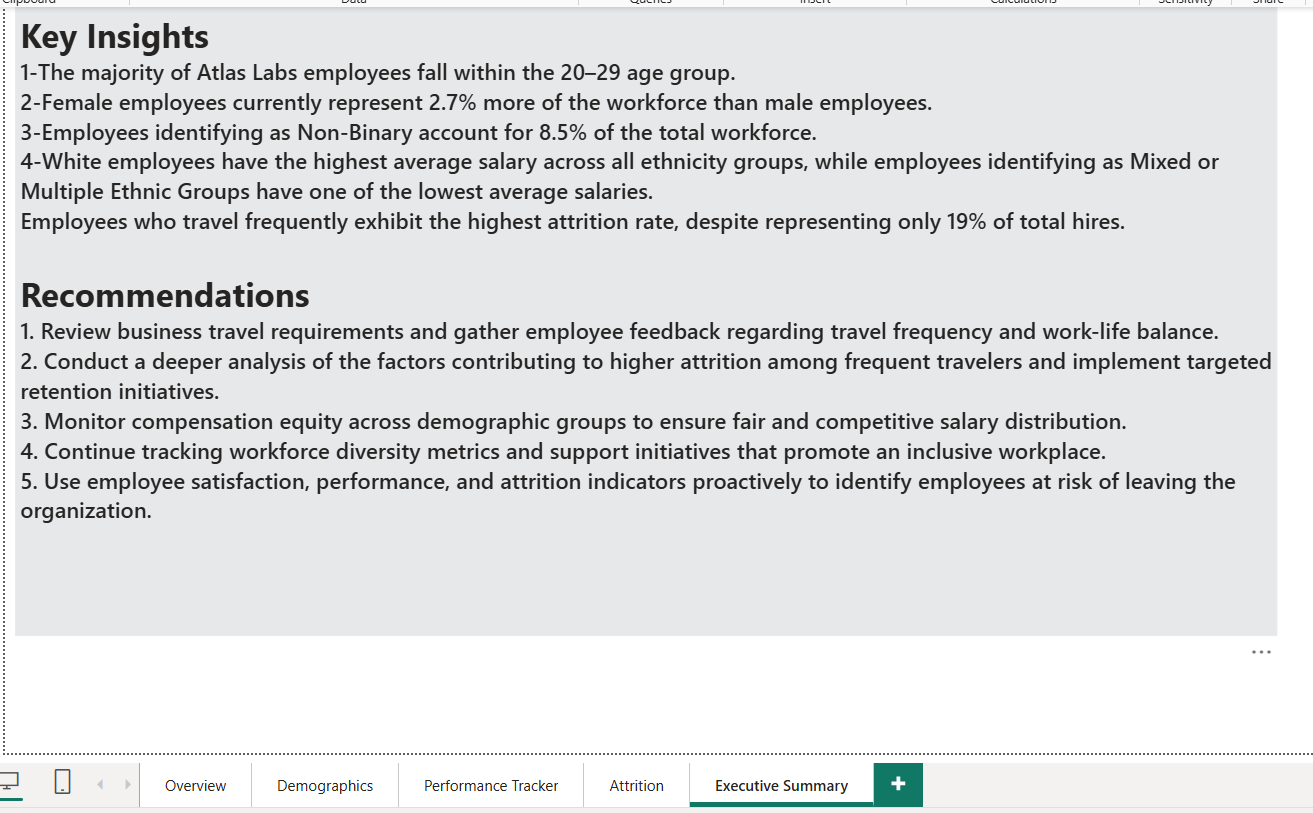

What the dashboard file says about the page in this screenshot:
{"tool":"powerbi","page":{"name":"Executive Summary","canvas":[1280,720],"ordinal":4},"visuals":[{"type":"textbox","box":[9.7,0,1218.5,606.8],"z":0}]}

Visuals, with their boxes on the page's 1280x720 design canvas (x1, y1, x2, y2). These are canvas units, not pixel positions in the 1313x813 screenshot, which may show the page scaled, cropped or inside an application window:
textbox: box=[10, 0, 1228, 607]
